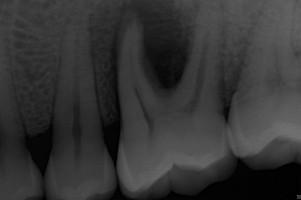Endo-Periodontal Lesion: (111, 0, 196, 123)
